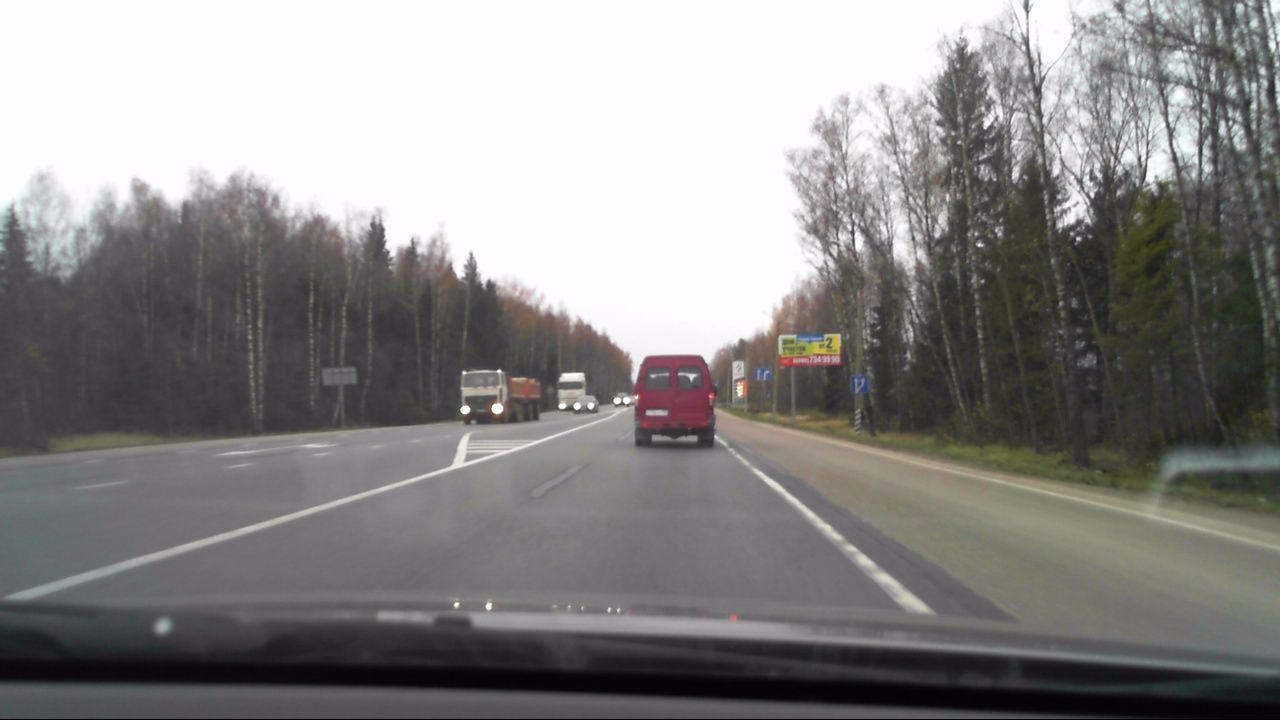5_15_1: (755, 365, 773, 382)
5_15_3: (849, 375, 868, 393)
